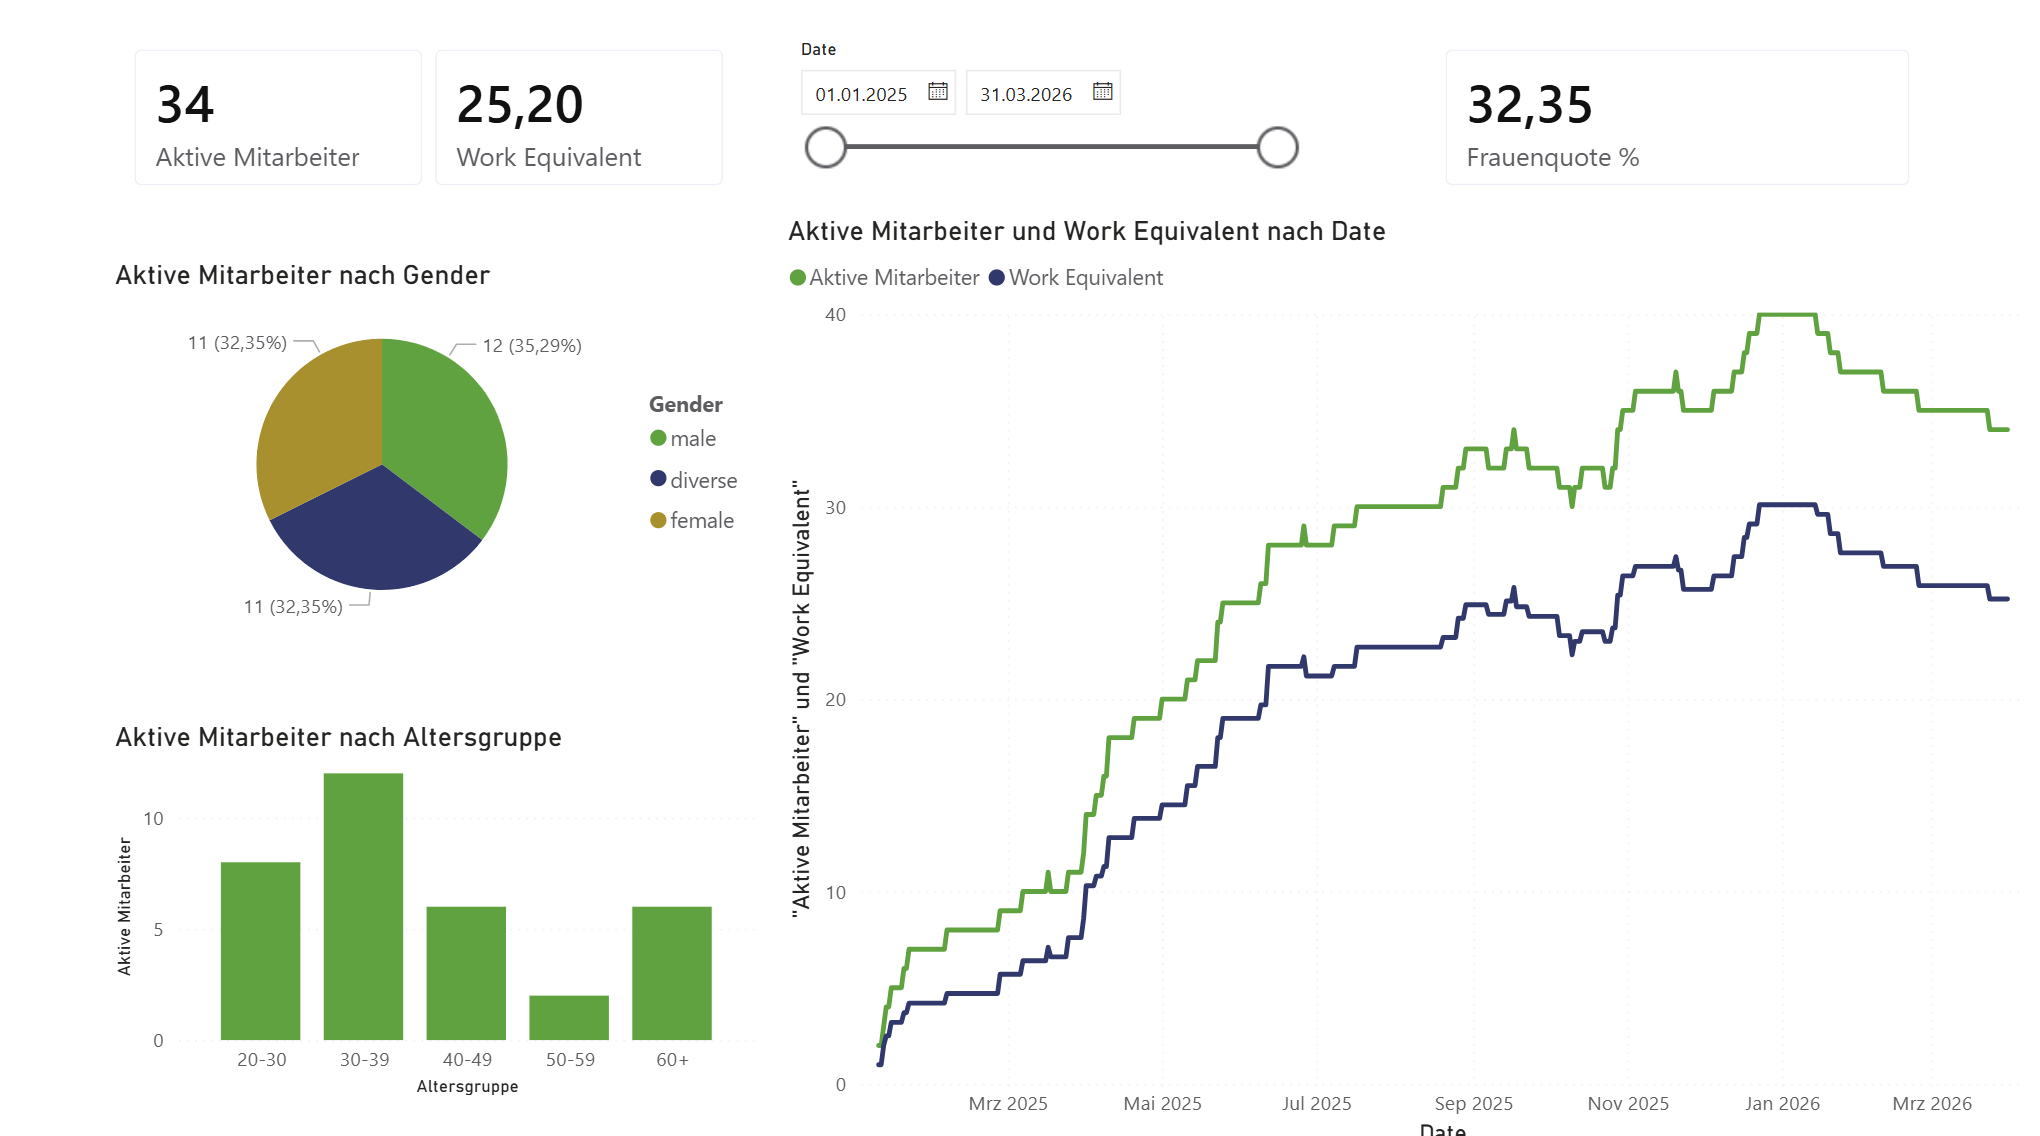

What the dashboard file says about the page in this screenshot:
{"tool":"powerbi","page":{"name":"Firmenkennzahlen","canvas":[1280,720],"ordinal":0},"visuals":[{"type":"lineChart","fields":{"Category":["Kalender.Date.Variation.Datumshierarchie.Jahr"],"Y":["MitarbeiterTabelle.Aktive Mitarbeiter","MitarbeiterTabelle.Work Equivalent"]},"box":[490.5,138.6,789.3,581.4],"z":0},{"type":"slicer","fields":{"Values":["Kalender.Date"]},"box":[490.5,25.4,329.1,113.2],"z":1000},{"type":"cardVisual","fields":{"Data":["MitarbeiterTabelle.Aktive Mitarbeiter","MitarbeiterTabelle.Work Equivalent"]},"box":[74.5,19.6,399.5,118.9],"z":2000},{"type":"pieChart","fields":{"Category":["MitarbeiterTabelle.Gender"],"Y":["MitarbeiterTabelle.Aktive Mitarbeiter"]},"box":[74.5,165.5,406.3,236.2],"z":3000},{"type":"clusteredColumnChart","fields":{"Category":["MitarbeiterTabelle.Altersgruppe"],"Y":["MitarbeiterTabelle.Aktive Mitarbeiter"]},"box":[74.5,451.4,406.3,237],"z":4000},{"type":"cardVisual","fields":{"Data":["MitarbeiterTabelle.Frauenquote %"]},"box":[885.2,19.8,321.6,118.8],"z":7000}]}

Visuals, with their boxes in screenshot pixels (x1, y1, x2, y2), scaled from the page's 1280x720 canvas onto the 2040x1136 screenshot:
lineChart - Kalender.Date.Variation.Datumshierarchie.Jahr x MitarbeiterTabelle.Aktive Mitarbeiter: BBox(782, 219, 2039, 1135)
slicer - Kalender.Date: BBox(782, 40, 1306, 219)
cardVisual - MitarbeiterTabelle.Aktive Mitarbeiter x MitarbeiterTabelle.Work Equivalent: BBox(119, 31, 755, 219)
pieChart - MitarbeiterTabelle.Gender x MitarbeiterTabelle.Aktive Mitarbeiter: BBox(119, 261, 766, 634)
clusteredColumnChart - MitarbeiterTabelle.Altersgruppe x MitarbeiterTabelle.Aktive Mitarbeiter: BBox(119, 712, 766, 1086)
cardVisual - MitarbeiterTabelle.Frauenquote %: BBox(1411, 31, 1923, 219)
